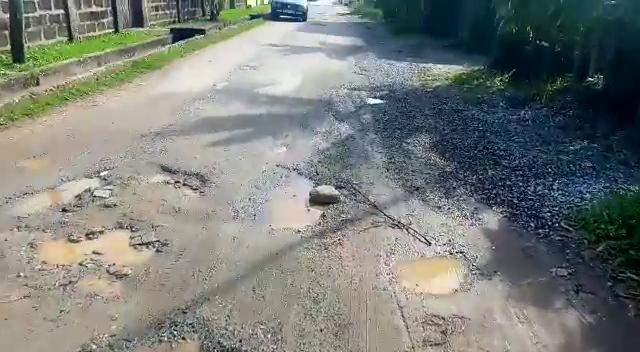pothole: (33, 223, 167, 271), (5, 169, 120, 214), (259, 166, 324, 232), (391, 253, 468, 297), (137, 161, 209, 196)
